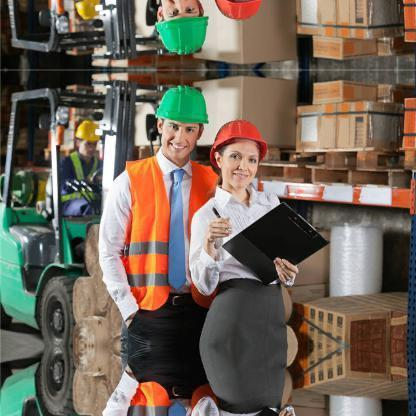helmet: (210, 118, 268, 171), (153, 79, 212, 127)
